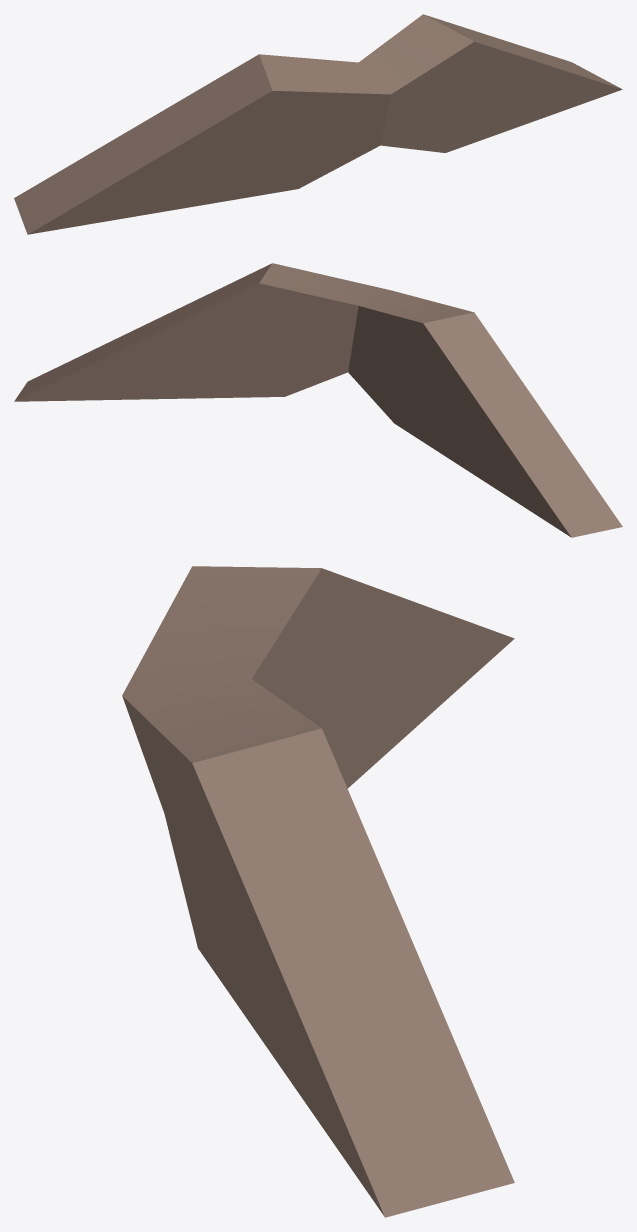
File: viikset.fbx
3 views of the same model, one above another, from view 1: azimuth 30°, elevation 25°; view 2: azimuth 150°, elevation 25°; view 3: azimuth 270°, elevation 25° (orthographic). The views are drawn at different scales.
Visible parts, largest first — view 1: Viikset1; view 2: Viikset1; view 3: Viikset1.
Boxes of the visible parts, box(x1,y1,x2,y2) form: Viikset1: box(14, 14, 622, 234); Viikset1: box(14, 263, 622, 537); Viikset1: box(122, 566, 514, 1217).
Bounding box in the file's own units: 0.000871 × 0.000195 × 0.000249.
